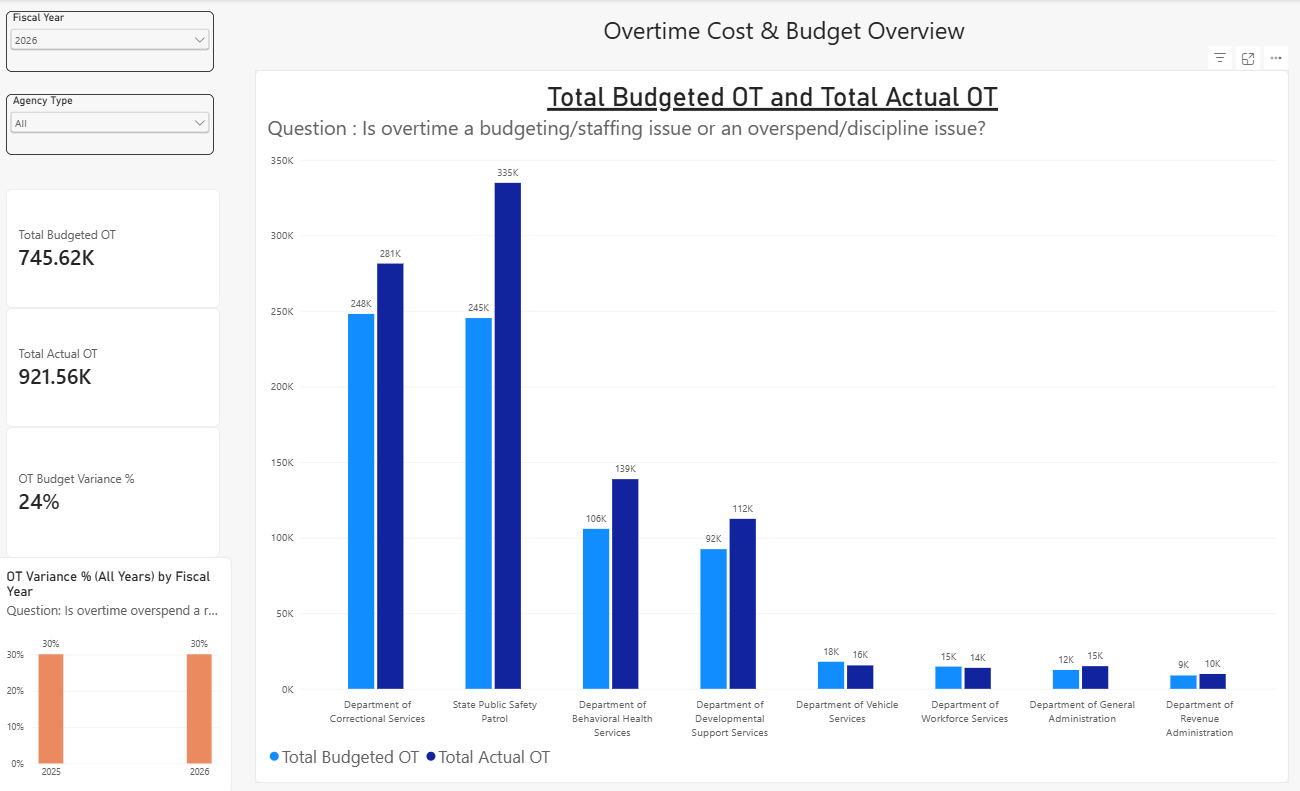

What the dashboard file says about the page in this screenshot:
{"tool":"powerbi","page":{"name":"Overview","canvas":[1920,1080],"ordinal":0},"visuals":[{"type":"cardVisual","fields":{"Data":["budget_vs_actual.Total Budgeted OT"]},"box":[16,256,288,160],"z":0},{"type":"cardVisual","fields":{"Data":["budget_vs_actual.Total Actual OT"]},"box":[16,416,288,160],"z":1000},{"type":"cardVisual","fields":{"Data":["budget_vs_actual.OT Budget Variance %"]},"box":[16,576,288,176],"z":2000},{"type":"clusteredColumnChart","title":"Total Budgeted OT and Total Actual OT","fields":{"Category":["budget_vs_actual.Agency Name"],"Y":["budget_vs_actual.Total Budgeted OT","budget_vs_actual.Total Actual OT"]},"box":[368,96,1408,944],"z":3000},{"type":"slicer","fields":{"Values":["budget_vs_actual.Fiscal Year"]},"box":[16,32,280.1,81.7],"z":4000},{"type":"slicer","fields":{"Values":["agencies.Agency Type"]},"box":[16,128,280.1,81.7],"z":5000},{"type":"textbox","box":[320,32,1488,80],"z":6000},{"type":"clusteredColumnChart","fields":{"Category":["budget_vs_actual.Fiscal Year"],"Y":["budget_vs_actual.OT Budget Variance %"]},"box":[16,752,288,288],"z":10502}]}

Visuals, with their boxes on the page's 1920x1080 design canvas (x1, y1, x2, y2). These are canvas units, not pixel positions in the 1300x791 screenshot, which may show the page scaled, cropped or inside an application window:
cardVisual - budget_vs_actual.Total Budgeted OT: {"left": 16, "top": 256, "right": 304, "bottom": 416}
cardVisual - budget_vs_actual.Total Actual OT: {"left": 16, "top": 416, "right": 304, "bottom": 576}
cardVisual - budget_vs_actual.OT Budget Variance %: {"left": 16, "top": 576, "right": 304, "bottom": 752}
"Total Budgeted OT and Total Actual OT" clusteredColumnChart: {"left": 368, "top": 96, "right": 1776, "bottom": 1040}
slicer - budget_vs_actual.Fiscal Year: {"left": 16, "top": 32, "right": 296, "bottom": 114}
slicer - agencies.Agency Type: {"left": 16, "top": 128, "right": 296, "bottom": 210}
textbox: {"left": 320, "top": 32, "right": 1808, "bottom": 112}
clusteredColumnChart - budget_vs_actual.Fiscal Year x budget_vs_actual.OT Budget Variance %: {"left": 16, "top": 752, "right": 304, "bottom": 1040}
